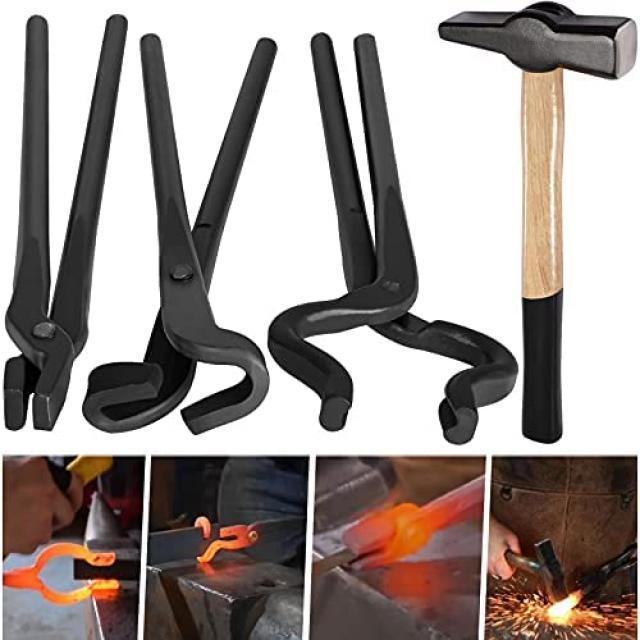hammer: (431, 0, 639, 449), (488, 530, 578, 604)
